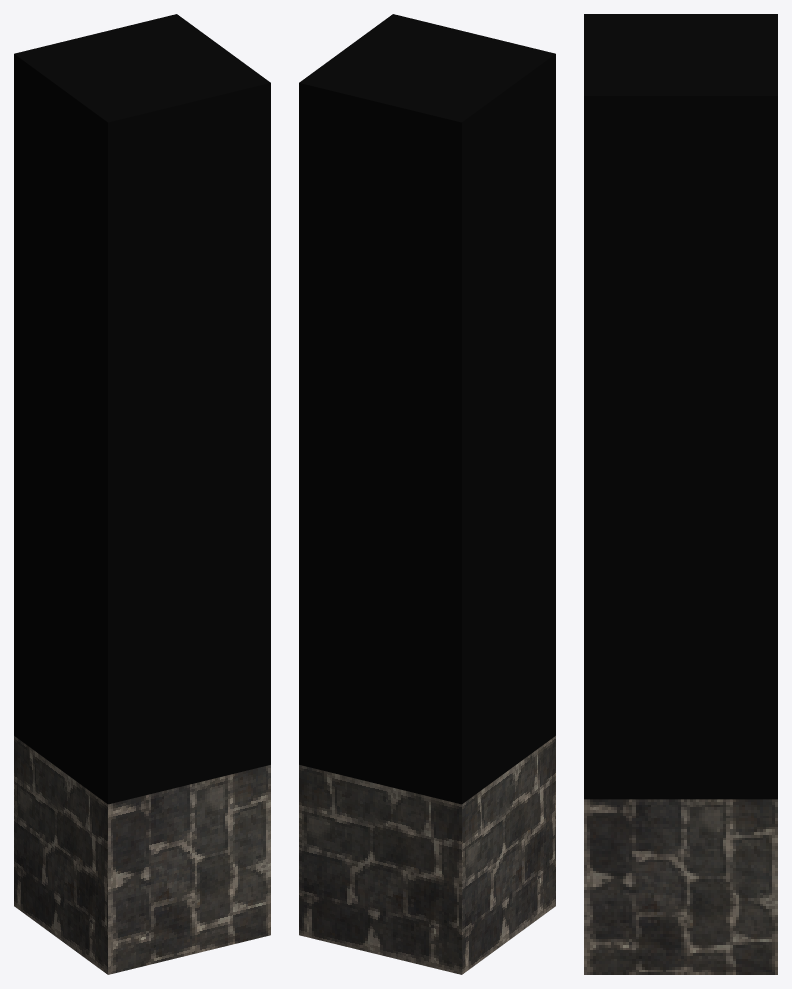
The model's file is wall2.gltf.
3 renders of one model, left to right at view 1: azimuth 30°, elevation 25°; view 2: azimuth 150°, elevation 25°; view 3: azimuth 270°, elevation 25°, orthographic. The views are drawn at different scales.
Parts seen in each view (by area): view 1: Cube.002; view 2: Cube.002; view 3: Cube.002.
Boxes of the visible parts, bbox=[...] form: Cube.002: bbox=[14, 14, 270, 974]; Cube.002: bbox=[299, 14, 555, 974]; Cube.002: bbox=[584, 14, 777, 974].
Size of the model in its own units: 2 by 10 by 2.
Materials: 2 (1 with a texture image).
